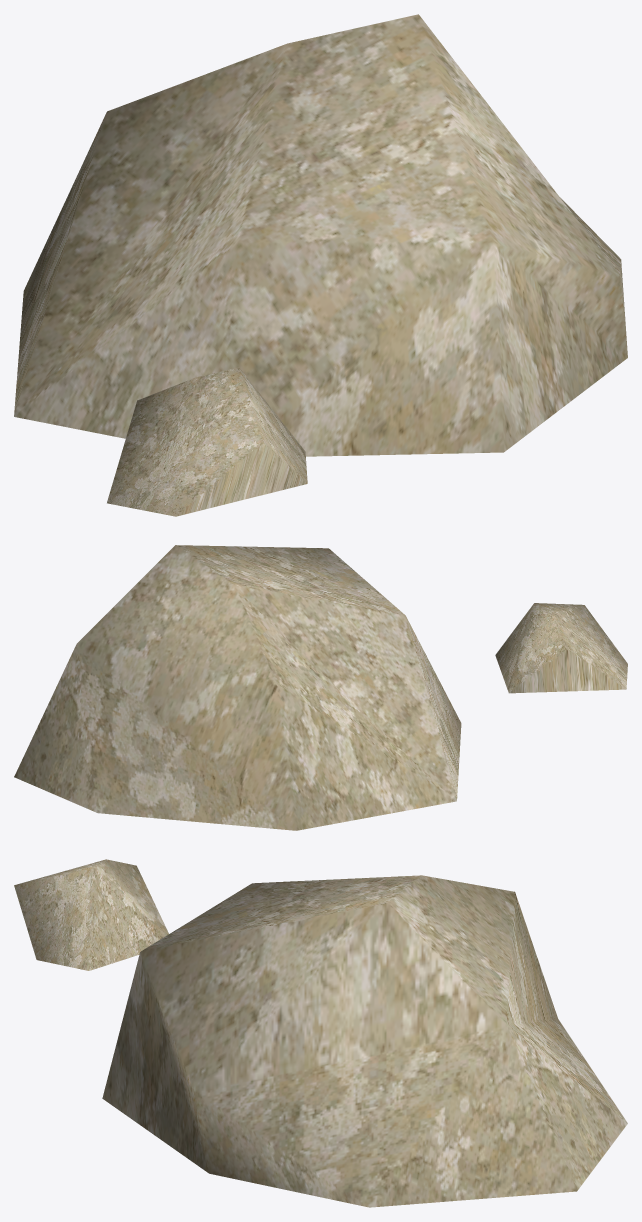
Rendered from rock_small_pile_a3_l1.fbx.
The picture shows the model from 3 angles, top to bottom: view 1: azimuth 30°, elevation 25°; view 2: azimuth 150°, elevation 25°; view 3: azimuth 270°, elevation 25°; orthographic projection. The views are drawn at different scales.
Visible parts, largest first — view 1: mesh_node; view 2: mesh_node; view 3: mesh_node.
Part boxes in pixels (left/top/right/bottom): mesh_node: left=14, top=14, right=627, bottom=516; mesh_node: left=14, top=545, right=627, bottom=830; mesh_node: left=14, top=859, right=627, bottom=1207.
Bounding box in the file's own units: 1.53 × 0.6264 × 1.46.
